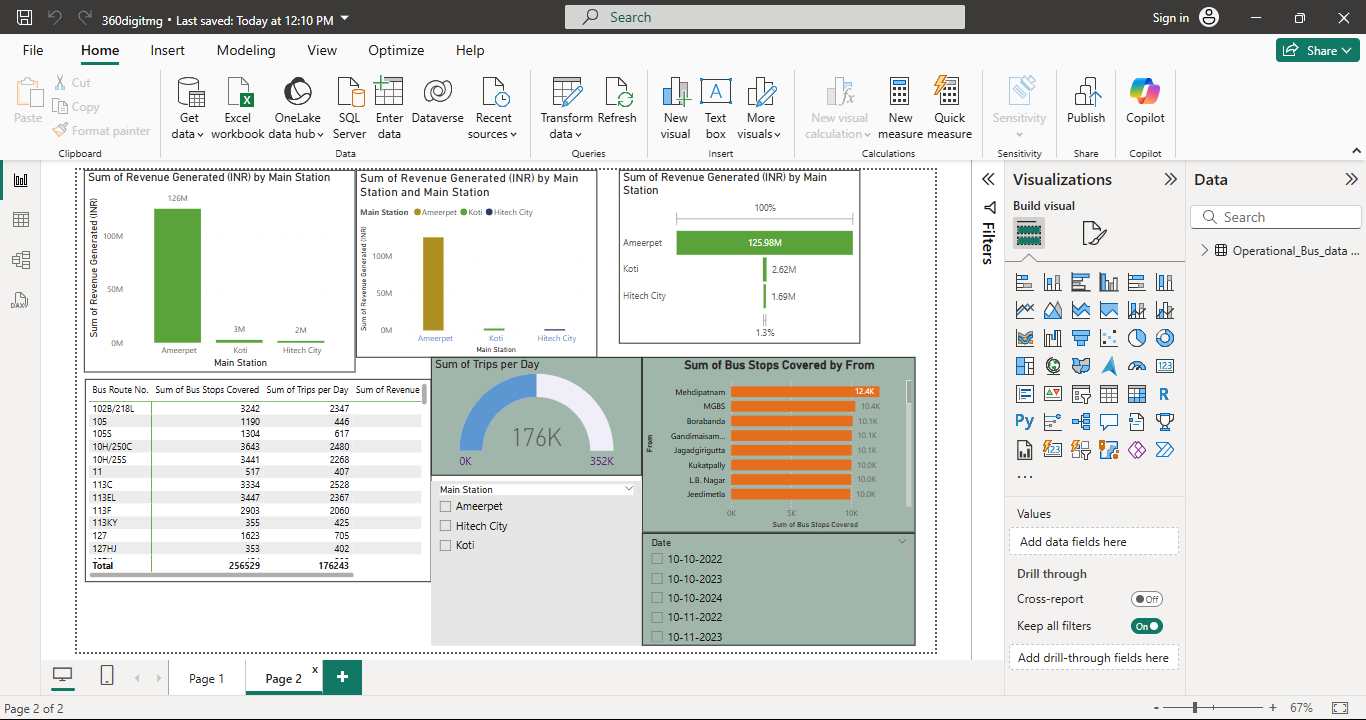

The page's visual inventory and layout, read from the dashboard file:
{"tool":"powerbi","page":{"name":"Page 2","canvas":[1280,720],"ordinal":1},"visuals":[{"type":"lineStackedColumnComboChart","fields":{"Category":["Operational_Bus_data - Operational_Bus_data.Main Station"],"Y":["Operational_Bus_data - Operational_Bus_data.Revenue Generated (INR)"]},"box":[10.5,0,405.3,301.8],"z":0},{"type":"pivotTable","fields":{"Rows":["Operational_Bus_data - Operational_Bus_data.Bus Route No."],"Values":["Operational_Bus_data - Operational_Bus_data.Bus Stops Covered","Operational_Bus_data - Operational_Bus_data.Trips per Day","Operational_Bus_data - Operational_Bus_data.Revenue Generated (INR)"]},"box":[11.7,311.7,516.6,302.9],"z":1000},{"type":"ribbonChart","fields":{"Category":["Operational_Bus_data - Operational_Bus_data.Main Station"],"Y":["Operational_Bus_data - Operational_Bus_data.Revenue Generated (INR)"],"Series":["Operational_Bus_data - Operational_Bus_data.Main Station"]},"box":[417.1,0,360,279.5],"z":2000},{"type":"gauge","fields":{"Y":["Operational_Bus_data - Operational_Bus_data.Trips per Day"]},"box":[528.3,279.5,314.6,177.1],"z":3000},{"type":"funnel","fields":{"Category":["Operational_Bus_data - Operational_Bus_data.Main Station"],"Y":["Operational_Bus_data - Operational_Bus_data.Revenue Generated (INR)"]},"box":[809.3,0,360,259],"z":4000},{"type":"clusteredBarChart","title":"Sum of Bus Stops Covered by From ","fields":{"Category":["Operational_Bus_data - Operational_Bus_data.From"],"Y":["Operational_Bus_data - Operational_Bus_data.Bus Stops Covered"]},"box":[842.9,279.5,408.3,262],"z":5000},{"type":"slicer","fields":{"Values":["Operational_Bus_data - Operational_Bus_data.Main Station"]},"box":[528.3,463.9,314.6,245.9],"z":6000},{"type":"slicer","fields":{"Values":["Operational_Bus_data - Operational_Bus_data.Date"]},"box":[842.9,541.5,408.3,168.3],"z":7000}]}

Visuals, with their boxes on the page's 1280x720 design canvas (x1, y1, x2, y2). These are canvas units, not pixel positions in the 1366x720 screenshot, which may show the page scaled, cropped or inside an application window:
lineStackedColumnComboChart - Operational_Bus_data - Operational_Bus_data.Main Station x Operational_Bus_data - Operational_Bus_data.Revenue Generated (INR): detection(10, 0, 416, 302)
pivotTable - Operational_Bus_data - Operational_Bus_data.Bus Route No. x Operational_Bus_data - Operational_Bus_data.Bus Stops Covered: detection(12, 312, 528, 615)
ribbonChart - Operational_Bus_data - Operational_Bus_data.Main Station x Operational_Bus_data - Operational_Bus_data.Revenue Generated (INR): detection(417, 0, 777, 280)
gauge - Operational_Bus_data - Operational_Bus_data.Trips per Day: detection(528, 280, 843, 457)
funnel - Operational_Bus_data - Operational_Bus_data.Main Station x Operational_Bus_data - Operational_Bus_data.Revenue Generated (INR): detection(809, 0, 1169, 259)
"Sum of Bus Stops Covered by From " clusteredBarChart: detection(843, 280, 1251, 542)
slicer - Operational_Bus_data - Operational_Bus_data.Main Station: detection(528, 464, 843, 710)
slicer - Operational_Bus_data - Operational_Bus_data.Date: detection(843, 542, 1251, 710)
